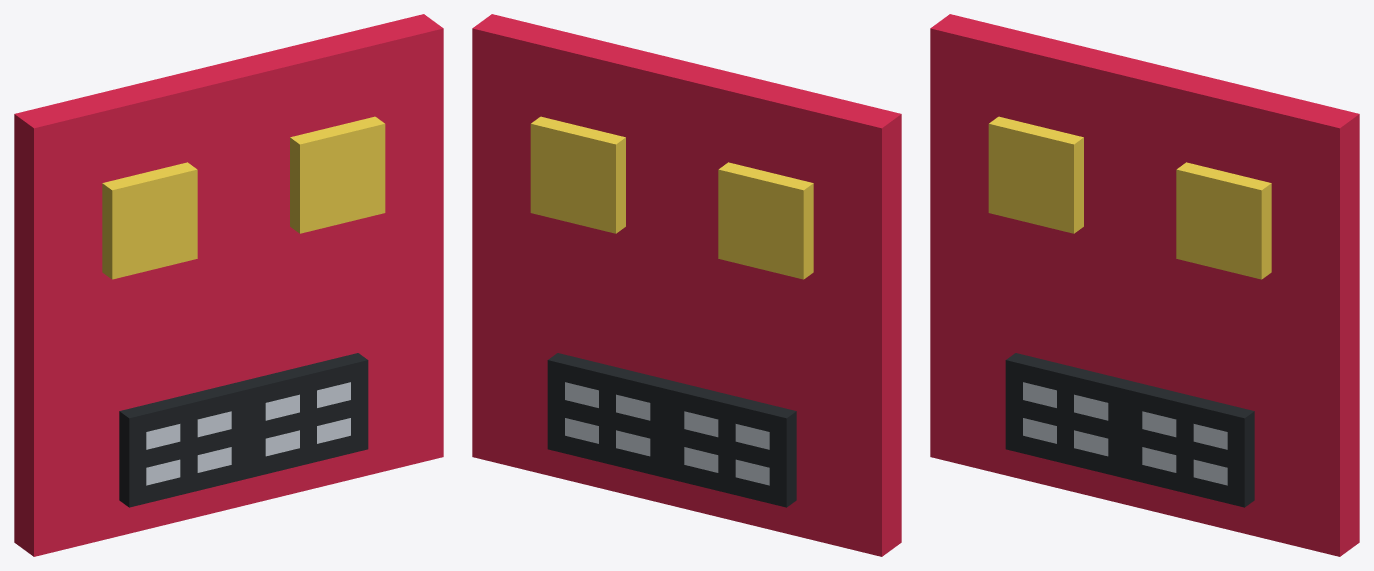
Rendered from robotface.fbx.
3 renders of one model, left to right at view 1: azimuth 30°, elevation 25°; view 2: azimuth 150°, elevation 25°; view 3: azimuth 330°, elevation 25°, orthographic.
Parts seen in each view (by area): view 1: generated; view 2: generated; view 3: generated.
Boxes of the visible parts, <box> form: generated: <box>14,14,443,556</box>; generated: <box>472,14,901,556</box>; generated: <box>930,14,1359,556</box>.
Bounding box in the file's own units: 240 × 240 × 40.
